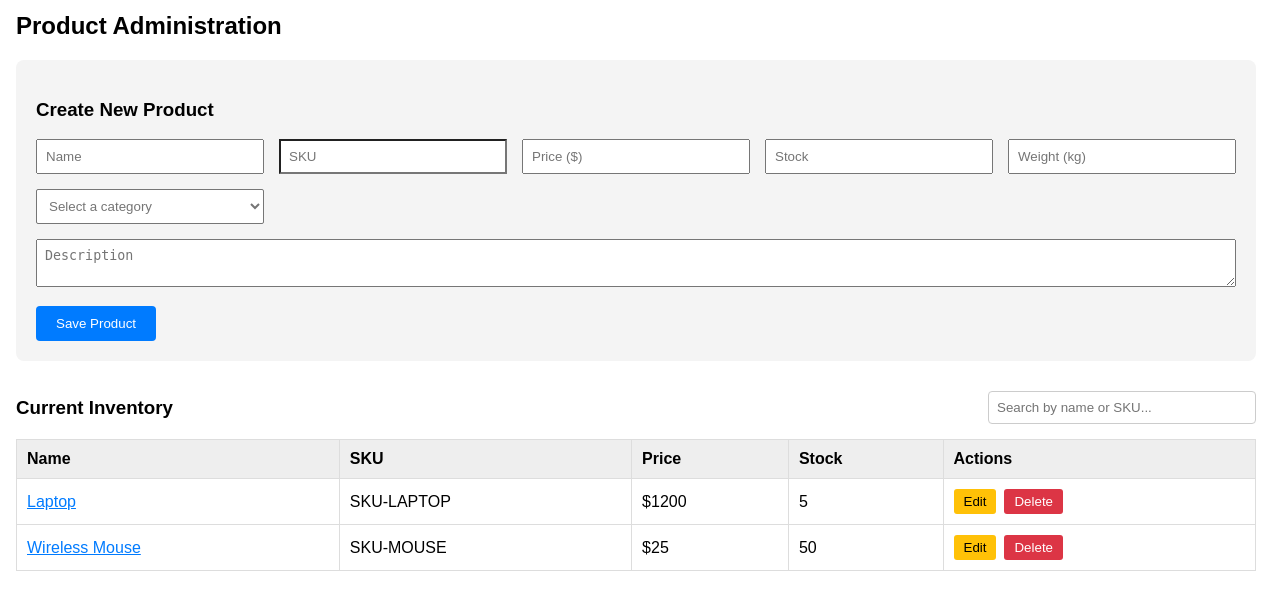
it: ProductAdmin Component › deletes a product successfully after user confirmation
expect the text "Laptop" is shown: met, box [27,493,76,510]
Click the button "Delete" in the row of "SKU-LAPTOP".
click(1034, 502)  # box [1004,489,1063,514]
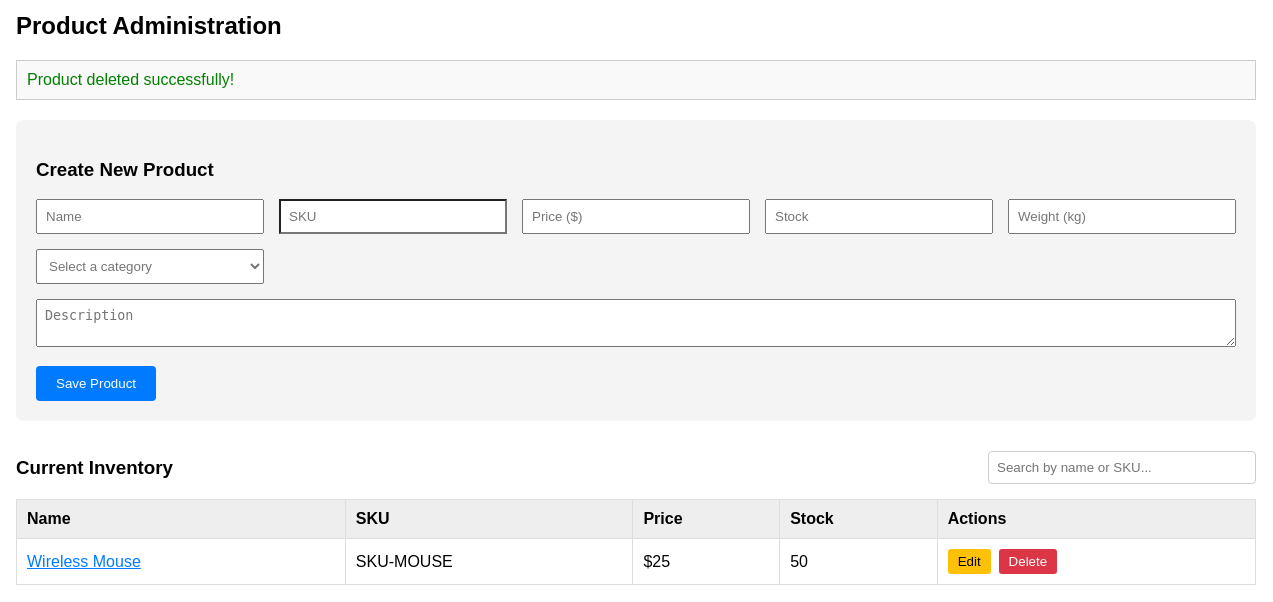
expect the text "Product deleted successfully!" is shown: met, box [16,60,1256,100]
